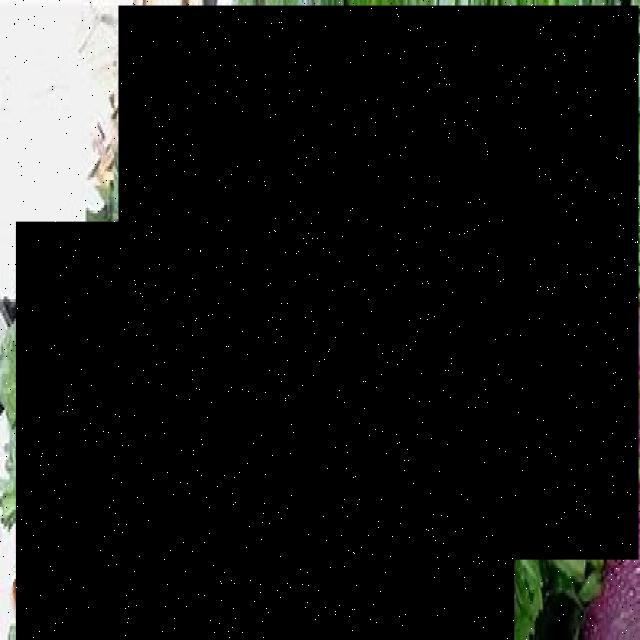Rayo_ko_Saag: (120, 9, 640, 562), (15, 221, 514, 640)
